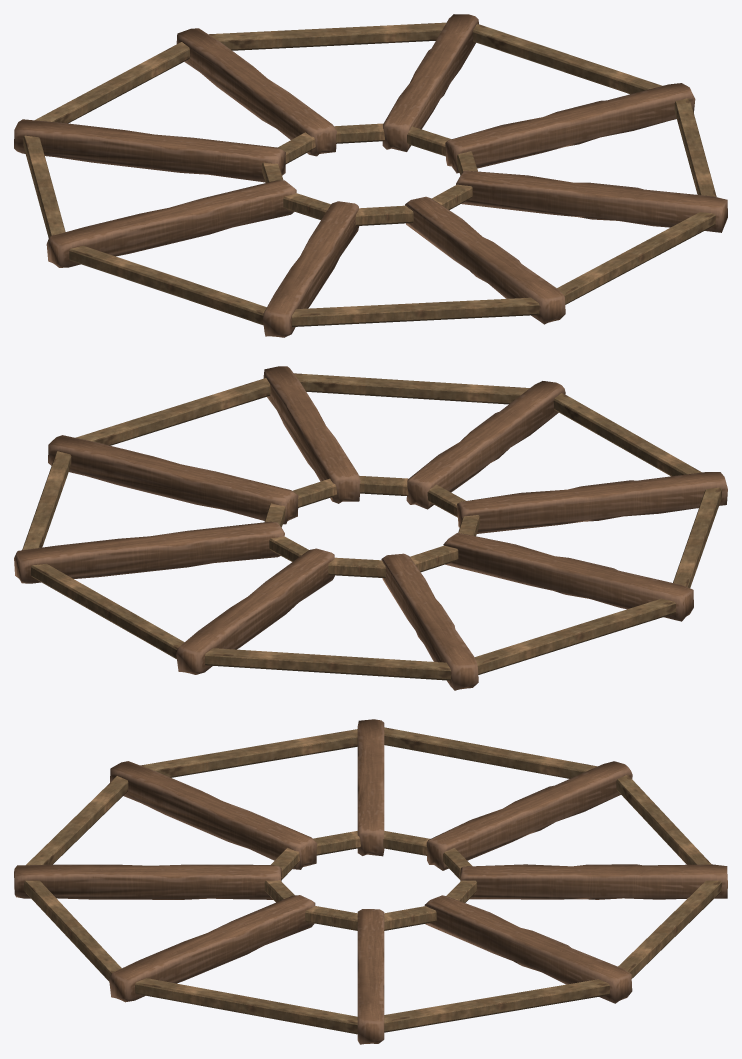
File: SM_platform_01.fbx
The picture shows the model from 3 angles, top to bottom: view 1: azimuth 30°, elevation 25°; view 2: azimuth 150°, elevation 25°; view 3: azimuth 270°, elevation 25°; orthographic projection. The views are drawn at different scales.
Parts seen in each view (by area): view 1: platform_01; view 2: platform_01; view 3: platform_01.
Part boxes in pixels (x1,y1,x2,y2): platform_01: (14,14,727,337); platform_01: (14,366,727,690); platform_01: (14,719,727,1044).
Bounding box in the file's own units: 799 × 31.08 × 799.
